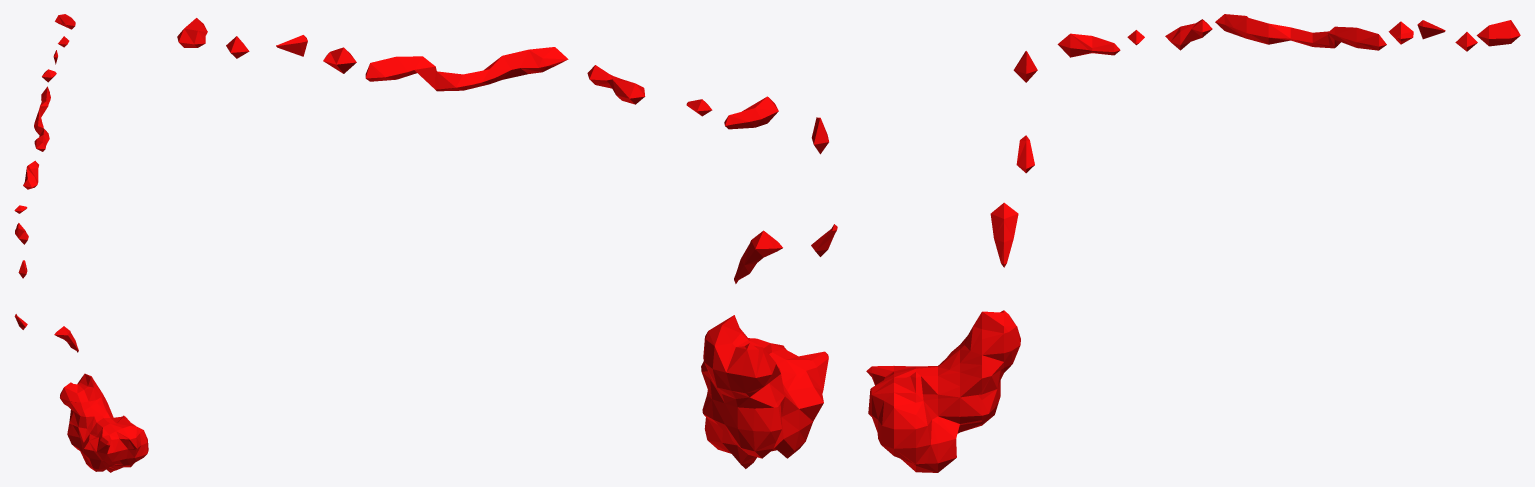
Rendered from dnaG_coarse.dae.
The picture shows the model from 3 angles, left to right: view 1: azimuth 30°, elevation 25°; view 2: azimuth 150°, elevation 25°; view 3: azimuth 270°, elevation 25°; orthographic projection. The views are drawn at different scales.
Visible parts, largest first — view 1: dnaG; view 2: dnaG; view 3: dnaG.
Part boxes in pixels (bbox=[...]): dnaG: bbox=[14, 14, 148, 472]; dnaG: bbox=[177, 18, 837, 468]; dnaG: bbox=[866, 14, 1520, 472].
Size of the model in its own units: 182 by 282 by 305.
